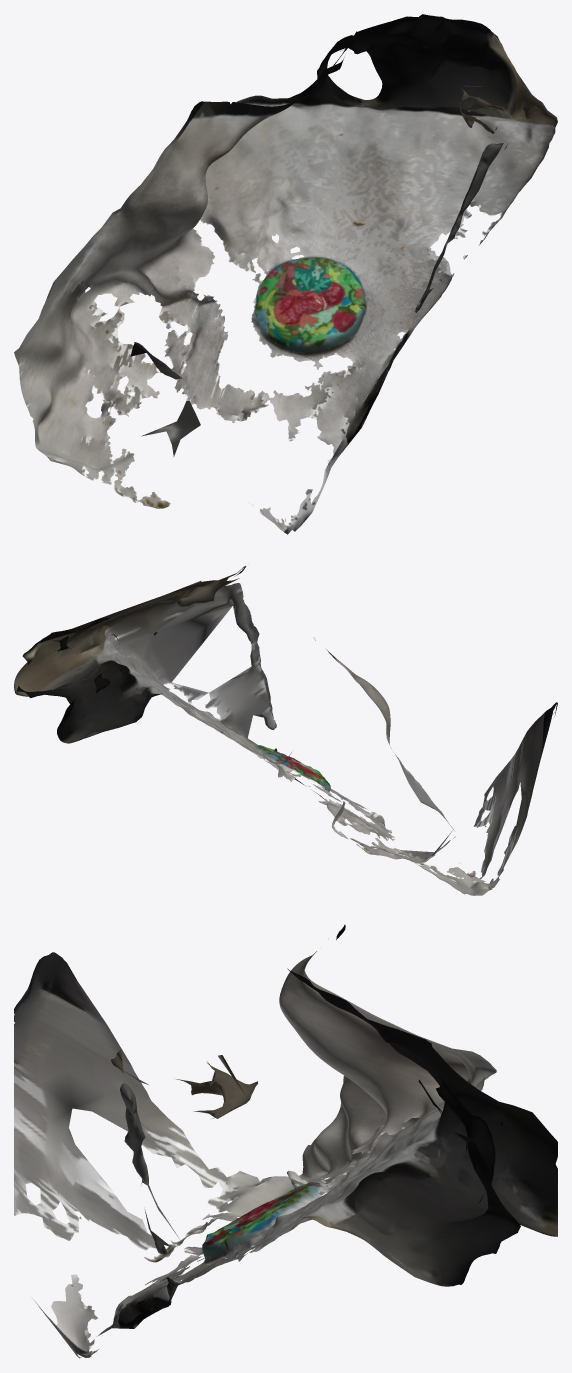
The picture shows the model from 3 angles, top to bottom: view 1: azimuth 30°, elevation 25°; view 2: azimuth 150°, elevation 25°; view 3: azimuth 270°, elevation 25°; orthographic projection. The views are drawn at different scales.
Bounding box in the file's own units: 0.8858 × 0.5476 × 0.6112.
1 material, 1 textured.
